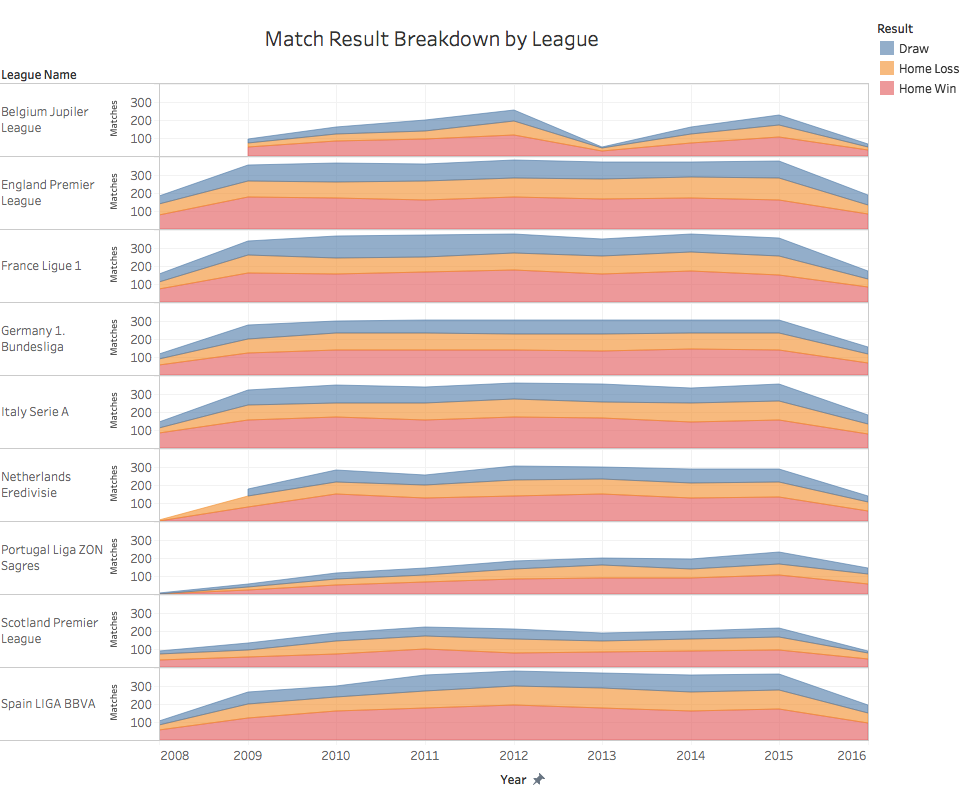

Layout of this report page (visuals, bound fields, positions):
{"tool":"tableau","page":{"name":"Match Spread DB","canvas":[1000,800],"ordinal":9},"visuals":[{"type":"worksheet","title":"Match Spread","mark":"Area","rows":["League Name","Number of Records"],"cols":["date_year"],"box":[8,8,882,784]},{"type":"legend","title":"Match Spread","param":"[federated.1huu9up1byw14l19azbe60vvm3jf].[none:Result 2:nk]","box":[890,8,102,86]}]}

Visuals, with their boxes in screenshot pixels (x1, y1, x2, y2), scaled from the page's 1000x800 canvas onto the 973x794 screenshot:
"Match Spread" worksheet (Area marks): Rect(8, 8, 866, 786)
"Match Spread" legend: Rect(866, 8, 965, 93)
